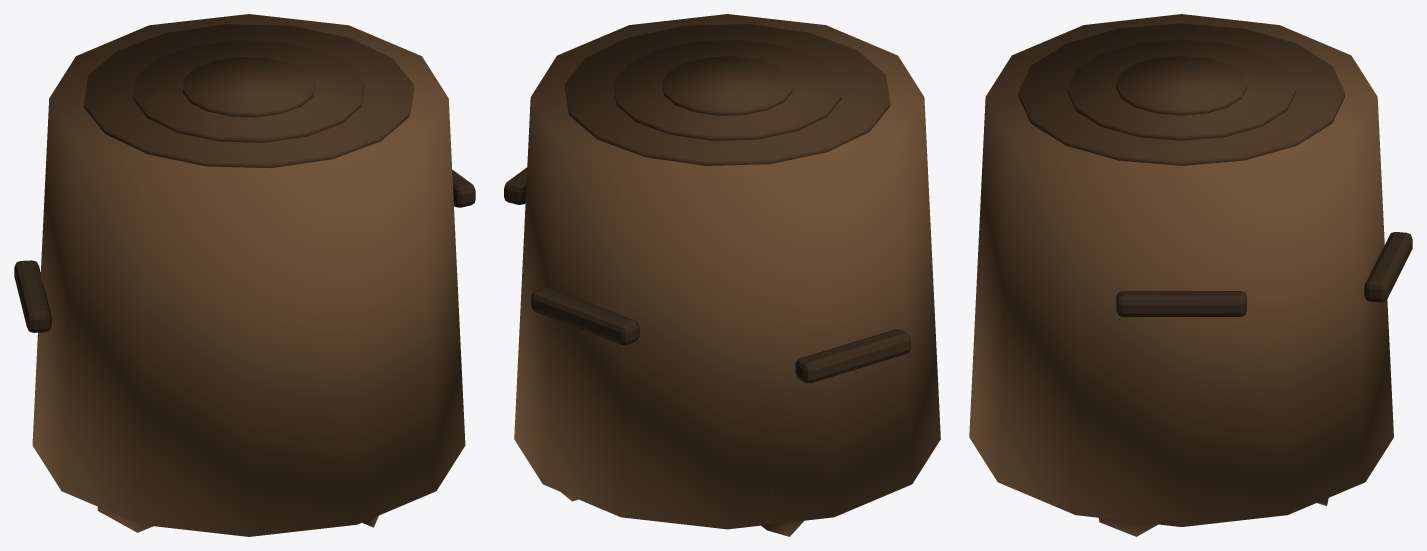
Rendered from prop_hokoragi_stump.glb.
3 views of the same model, side by side, from view 1: azimuth 30°, elevation 25°; view 2: azimuth 150°, elevation 25°; view 3: azimuth 270°, elevation 25° (orthographic).
Parts seen in each view (by area): view 1: prop_hokoragi_stump; view 2: prop_hokoragi_stump; view 3: prop_hokoragi_stump.
Part boxes in pixels (bbox=[...]): prop_hokoragi_stump: bbox=[14, 14, 475, 536]; prop_hokoragi_stump: bbox=[504, 14, 940, 536]; prop_hokoragi_stump: bbox=[969, 14, 1412, 536].
Size of the model in its own units: 0.5534 by 0.5169 by 0.5429.
